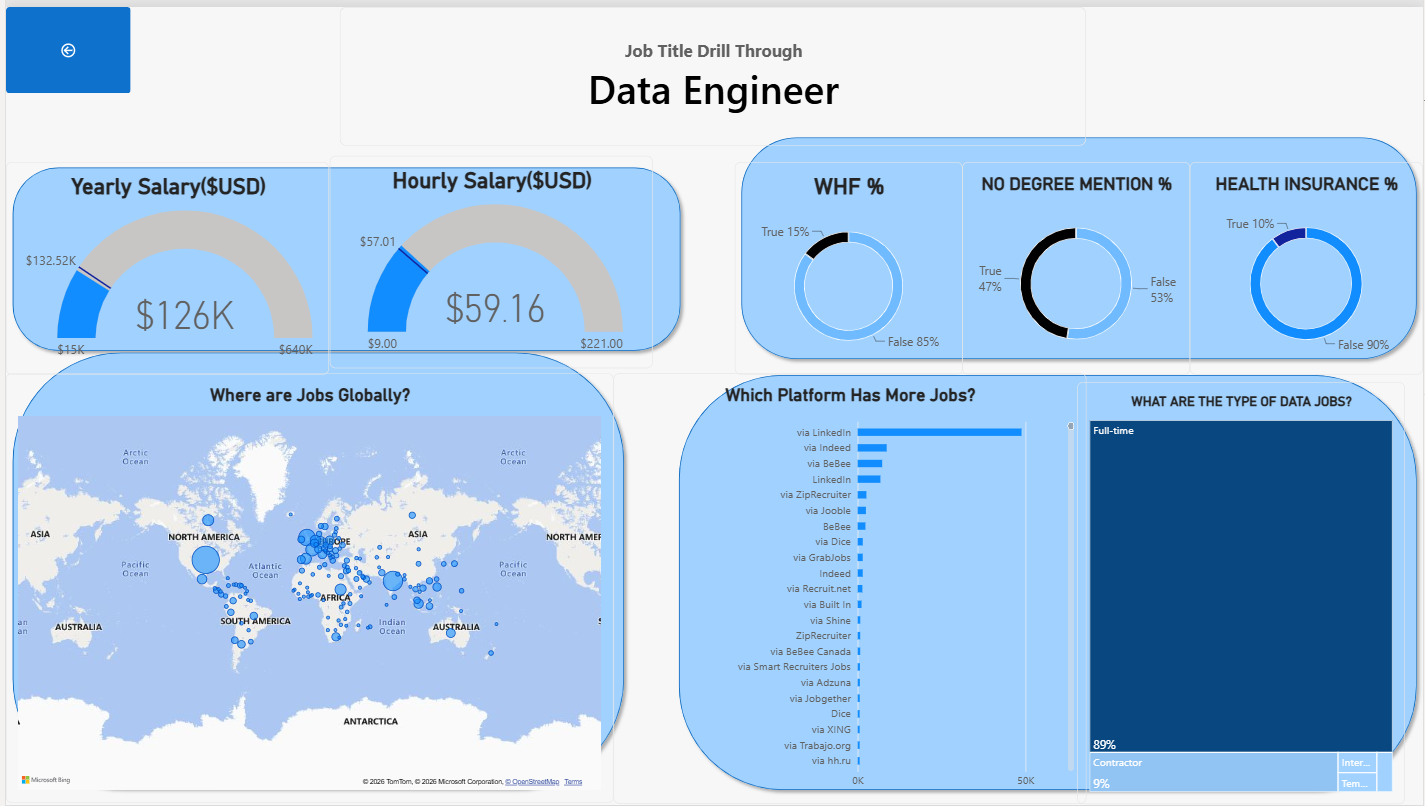

What the dashboard file says about the page in this screenshot:
{"tool":"powerbi","page":{"name":"Job Title Drill Through","canvas":[1920,1080],"ordinal":1},"visuals":[{"type":"group","id":"g1","title":"Background","box":[0,167.4,1920.4,902.6],"z":0},{"type":"cardVisual","fields":{"Data":["Min(job_postings_flat.job_title_short)1"]},"box":[451.7,0,1011.6,188.4],"z":1000},{"type":"actionButton","box":[0,0,169.2,116.9],"z":2000},{"type":"shape","box":[0,207.3,922.9,266.6],"z":2000,"group":"g2"},{"type":"shape","box":[987.4,167.4,933,318.4],"z":3000,"group":"g2"},{"type":"gauge","title":"Yearly Salary($USD)","fields":{"MaxValue":["Max(job_postings_flat.salary_year_avg)2"],"MinValue":["Min(job_postings_flat.salary_year_avg)1"],"TargetValue":["Avg(job_postings_flat.salary_year_avg)3"],"Y":["Median(job_postings_flat.salary_year_avg)"]},"box":[0,209.3,437.8,287.8],"z":3000},{"type":"gauge","title":"Hourly Salary($USD)","fields":{"MaxValue":["Max(job_postings_flat.salary_hour_avg)"],"MinValue":["Min(job_postings_flat.salary_hour_avg)"],"TargetValue":["Avg(job_postings_flat.salary_hour_avg)1"],"Y":["Median(job_postings_flat.salary_hour_avg)"]},"box":[438.1,201.1,437.8,287.8],"z":4000},{"type":"shape","box":[0,459.4,846.4,608.6],"z":4000,"group":"g2"},{"type":"donutChart","title":"WHF %","fields":{"Category":["job_postings_flat.job_work_from_home"],"Y":["CountNonNull(job_postings_flat.job_work_from_home)"]},"box":[987.2,209.3,308.7,287.8],"z":5000},{"type":"shape","box":[902.8,489.7,1017.6,580.4],"z":5000,"group":"g2"},{"type":"donutChart","title":"NO DEGREE MENTION %","fields":{"Category":["job_postings_flat.job_no_degree_mention"],"Y":["CountNonNull(job_postings_flat.job_work_from_home)"]},"box":[1295.9,209.3,308.7,287.8],"z":6000},{"type":"donutChart","title":"HEALTH INSURANCE %","fields":{"Category":["job_postings_flat.job_health_insurance"],"Y":["CountNonNull(job_postings_flat.job_work_from_home)"]},"box":[1604.7,209.3,315.7,287.8],"z":7000},{"type":"map","title":"Where are Jobs Globally?","fields":{"Category":["job_postings_flat.job_country"],"Size":["CountNonNull(job_postings_flat.job_title_short)"]},"box":[0,497.1,823.3,582.6],"z":8000},{"type":"treemap","title":"WHAT ARE THE TYPE OF DATA JOBS?","fields":{"Group":["job_postings_flat.job_schedule_type"],"Values":["CountNonNull(job_postings_flat.job_schedule_type)"]},"box":[1451.3,508.2,444.3,572.1],"z":9000},{"type":"barChart","title":"Which Platform Has More Jobs?","fields":{"Category":["job_postings_flat.job_via"],"Y":["CountNonNull(job_postings_flat.job_via)"]},"box":[823,497,641,583],"z":10000},{"type":"group","id":"g2","title":"Group 1","box":[0,167.4,1920.4,902.6],"z":10001,"group":"g1"}]}

Visuals, with their boxes in screenshot pixels (x1, y1, x2, y2), scaled from the page's 1920x1080 canvas onto the 1425x806 screenshot:
"Background" group: l=0, t=125, r=1424, b=799
cardVisual - Min(job_postings_flat.job_title_short)1: l=335, t=0, r=1086, b=141
actionButton: l=0, t=0, r=126, b=87
shape: l=0, t=155, r=685, b=354
shape: l=733, t=125, r=1424, b=363
"Yearly Salary($USD)" gauge: l=0, t=156, r=325, b=371
"Hourly Salary($USD)" gauge: l=325, t=150, r=650, b=365
shape: l=0, t=343, r=628, b=797
"WHF %" donutChart: l=733, t=156, r=962, b=371
shape: l=670, t=365, r=1424, b=799
"NO DEGREE MENTION %" donutChart: l=962, t=156, r=1191, b=371
"HEALTH INSURANCE %" donutChart: l=1191, t=156, r=1424, b=371
"Where are Jobs Globally?" map: l=0, t=371, r=611, b=805
"WHAT ARE THE TYPE OF DATA JOBS?" treemap: l=1077, t=379, r=1407, b=805
"Which Platform Has More Jobs?" barChart: l=611, t=371, r=1087, b=805
"Group 1" group: l=0, t=125, r=1424, b=799
